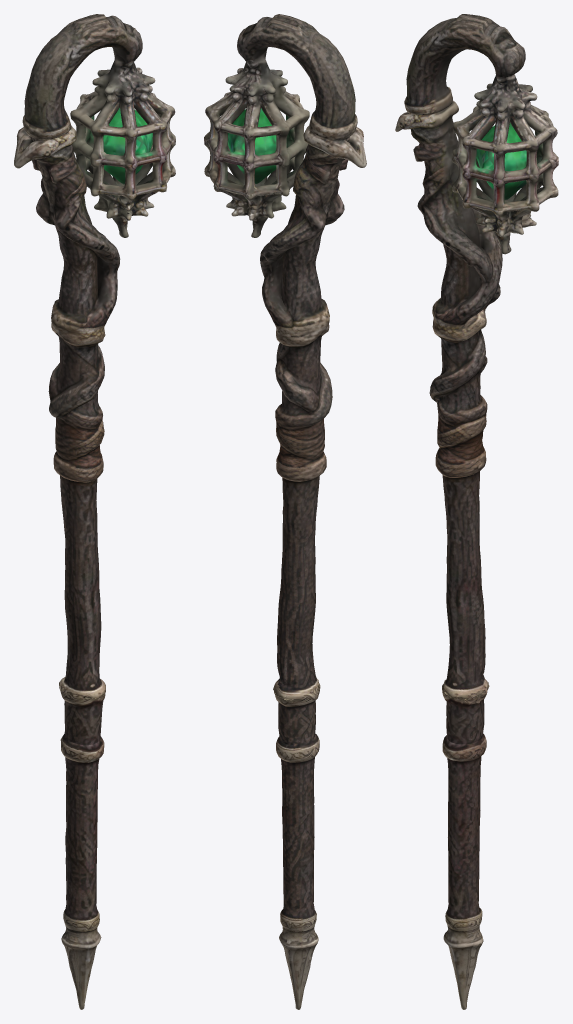
The model's file is healer_weapon.obj.
3 views of the same model, side by side, from view 1: azimuth 30°, elevation 25°; view 2: azimuth 150°, elevation 25°; view 3: azimuth 330°, elevation 25° (orthographic).
Parts seen in each view (by area): view 1: healer_weapon; view 2: healer_weapon; view 3: healer_weapon.
Part boxes in pixels (x1=…): healer_weapon: x1=14, y1=14, x2=175, y2=1009; healer_weapon: x1=204, y1=14, x2=366, y2=1009; healer_weapon: x1=395, y1=14, x2=558, y2=1009.
Bounding box in the file's own units: 0.1563 × 0.9797 × 0.0921.
1 material, 1 textured.
